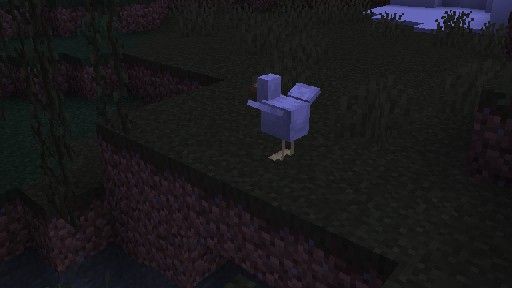chicken: (246, 72, 321, 160)
